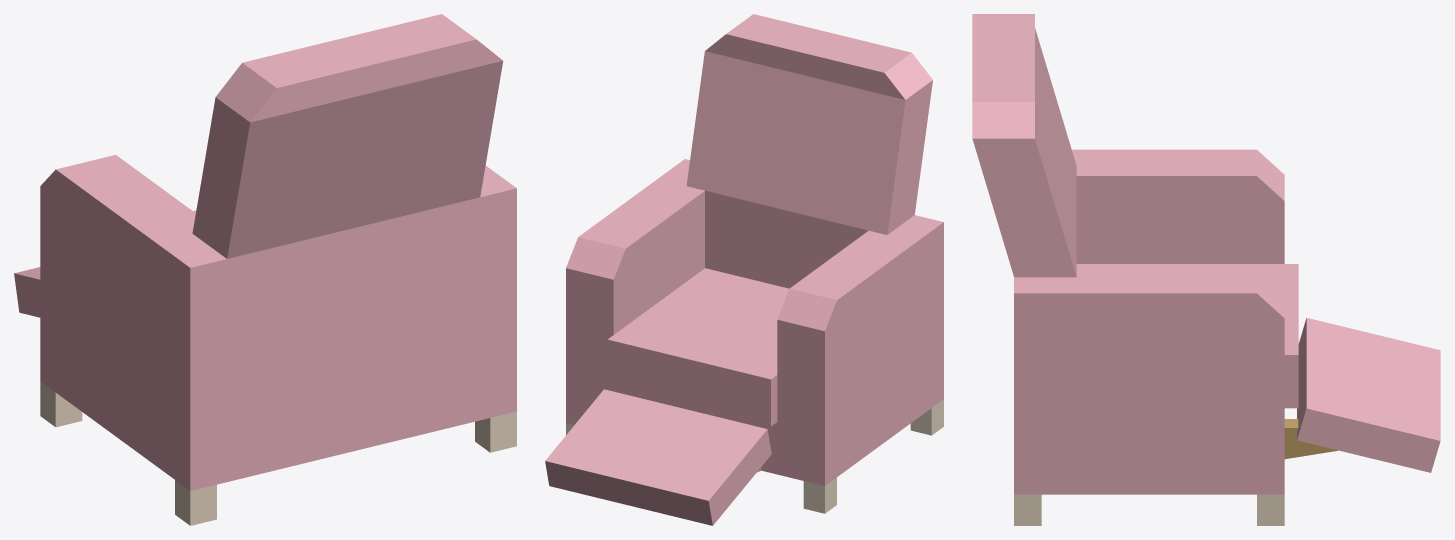
File: furn_relaxchair.glb
3 renders of one model, left to right at view 1: azimuth 30°, elevation 25°; view 2: azimuth 150°, elevation 25°; view 3: azimuth 270°, elevation 25°, orthographic. The views are drawn at different scales.
Parts seen in each view (by area): view 1: relaxchair; view 2: relaxchair; view 3: relaxchair.
Part boxes in pixels (box(x1,y1,x2,y2)): relaxchair: box(14, 14, 516, 525); relaxchair: box(545, 14, 943, 525); relaxchair: box(972, 14, 1440, 525).
Bounding box in the file's own units: 0.7389 × 0.95 × 1.02.
